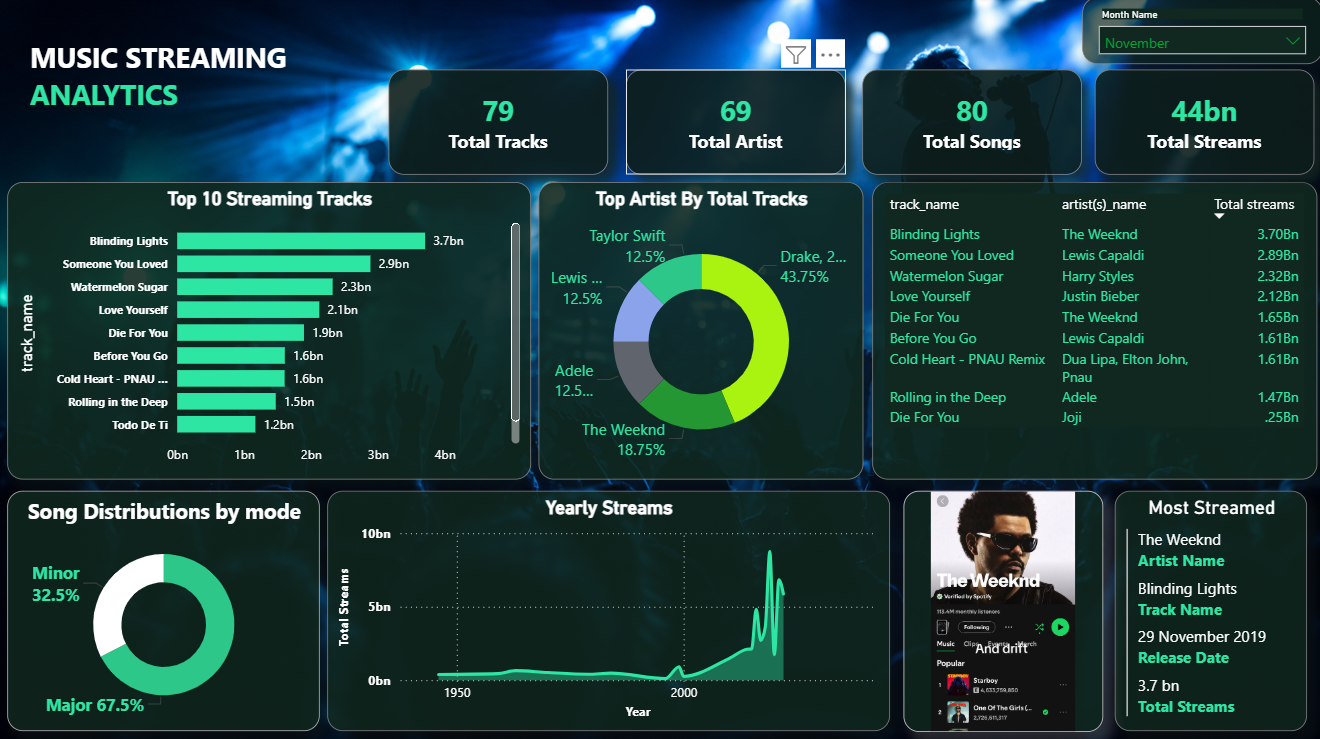

The dashboard page shown, as its layout file describes it:
{"tool":"powerbi","page":{"name":"Page 1","canvas":[1280,720],"ordinal":0},"visuals":[{"type":"cardVisual","fields":{"Data":["Spotify Most Streamed Songs.Total Tracks"]},"box":[378.8,70,212.3,101.3],"z":0},{"type":"donutChart","title":"Song Distributions by mode","fields":{"Category":["Spotify Most Streamed Songs.mode"],"Y":["Spotify Most Streamed Songs.Total Songs"]},"box":[10.9,476.5,301.6,231.6],"z":1000},{"type":"areaChart","title":"Yearly Streams","fields":{"Category":["Spotify Most Streamed Songs.Year"],"Y":["Spotify Most Streamed Songs.Total Streams"]},"box":[319.7,476.5,542.9,231.6],"z":2000},{"type":"barChart","title":"Top 10 Streaming Tracks","fields":{"Category":["Spotify Most Streamed Songs.track_name"],"Y":["Spotify Most Streamed Songs.Total Streams"]},"box":[10.9,178.6,505.5,287.1],"z":3000},{"type":"multiRowCard","title":"Most Streamed ","fields":{"Values":["Spotify Most Streamed Songs.artist(s)_name","Spotify Most Streamed Songs.track_name","Spotify Most Streamed Songs.Release Date","Spotify Most Streamed Songs.Total Streams"]},"box":[1079.8,476.5,185.8,231.6],"z":4000},{"type":"slicer","fields":{"Values":["Spotify Most Streamed Songs.Month Name"]},"box":[1048.4,0,231.6,65.1],"z":5000},{"type":"donutChart","title":"Top Artist By Total Tracks","fields":{"Category":["Spotify Most Streamed Songs.artist(s)_name"],"Y":["Spotify Most Streamed Songs.Total Tracks"]},"box":[523.6,178.6,313.7,287.1],"z":6000},{"type":"tableEx","fields":{"Values":["Spotify Most Streamed Songs.track_name","Spotify Most Streamed Songs.artist(s)_name","Sum(Spotify Most Streamed Songs.streams)"]},"box":[845.7,178.6,429.5,287.1],"z":7000},{"type":"textbox","box":[27.7,35,292,103.8],"z":8000},{"type":"cardVisual","fields":{"Data":["Spotify Most Streamed Songs.Total Artist"]},"box":[608,70,212.3,101.3],"z":9000},{"type":"cardVisual","fields":{"Data":["Spotify Most Streamed Songs.Total Songs"]},"box":[836.1,70,212.3,101.3],"z":10000},{"type":"cardVisual","fields":{"Data":["Spotify Most Streamed Songs.Total Streams"]},"box":[1060.5,70,212.3,101.3],"z":11000},{"type":"image","box":[875.9,476.5,193,232.8],"z":12000}]}

Visuals, with their boxes in screenshot pixels (x1, y1, x2, y2), scaled from the page's 1280x720 canvas onto the 1320x739 screenshot:
cardVisual - Spotify Most Streamed Songs.Total Tracks: 391, 72, 610, 176
"Song Distributions by mode" donutChart: 11, 489, 322, 727
"Yearly Streams" areaChart: 330, 489, 890, 727
"Top 10 Streaming Tracks" barChart: 11, 183, 533, 478
"Most Streamed " multiRowCard: 1114, 489, 1305, 727
slicer - Spotify Most Streamed Songs.Month Name: 1081, 0, 1319, 67
"Top Artist By Total Tracks" donutChart: 540, 183, 863, 478
tableEx - Spotify Most Streamed Songs.track_name x Spotify Most Streamed Songs.artist(s)_name: 872, 183, 1315, 478
textbox: 29, 36, 330, 142
cardVisual - Spotify Most Streamed Songs.Total Artist: 627, 72, 846, 176
cardVisual - Spotify Most Streamed Songs.Total Songs: 862, 72, 1081, 176
cardVisual - Spotify Most Streamed Songs.Total Streams: 1094, 72, 1313, 176
image: 903, 489, 1102, 728
